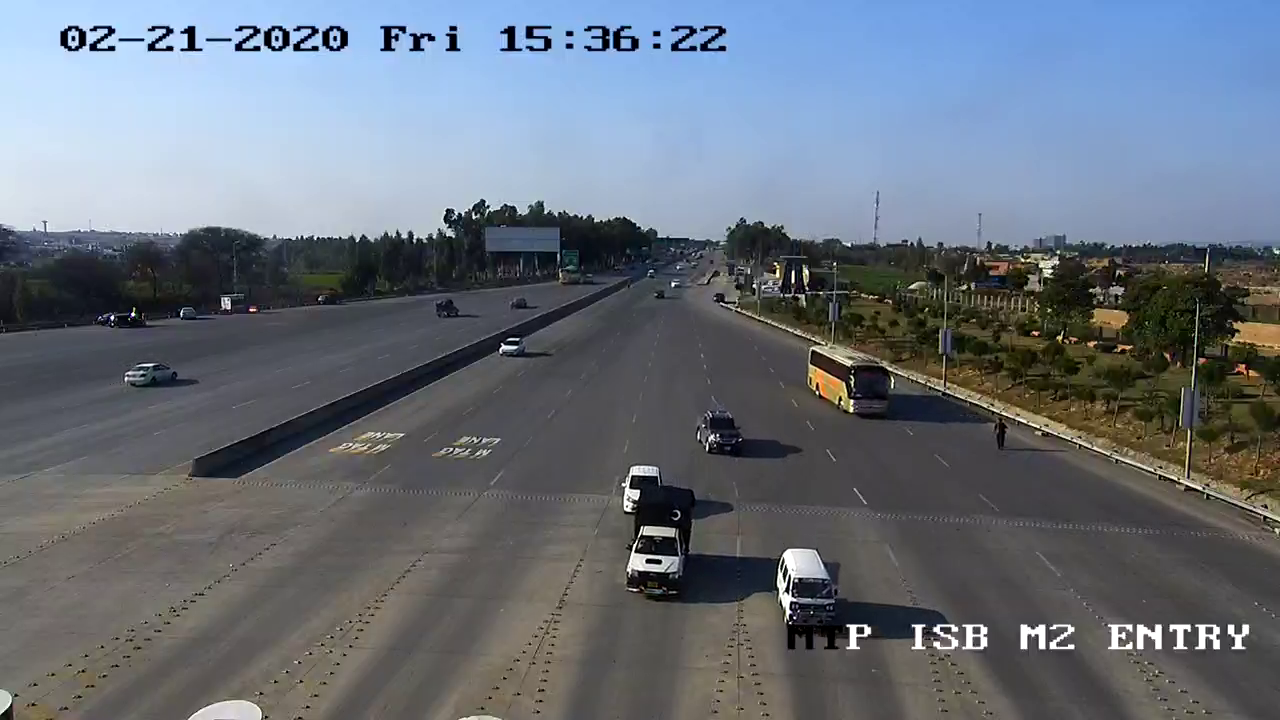f1: (614, 478, 714, 604), (768, 524, 857, 626), (685, 398, 751, 464)
f4: (792, 329, 911, 434)
